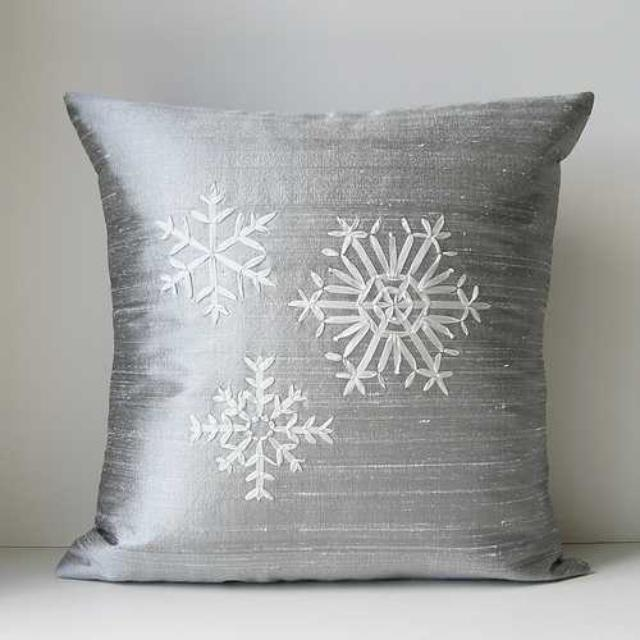pillow: (54, 87, 596, 583)
